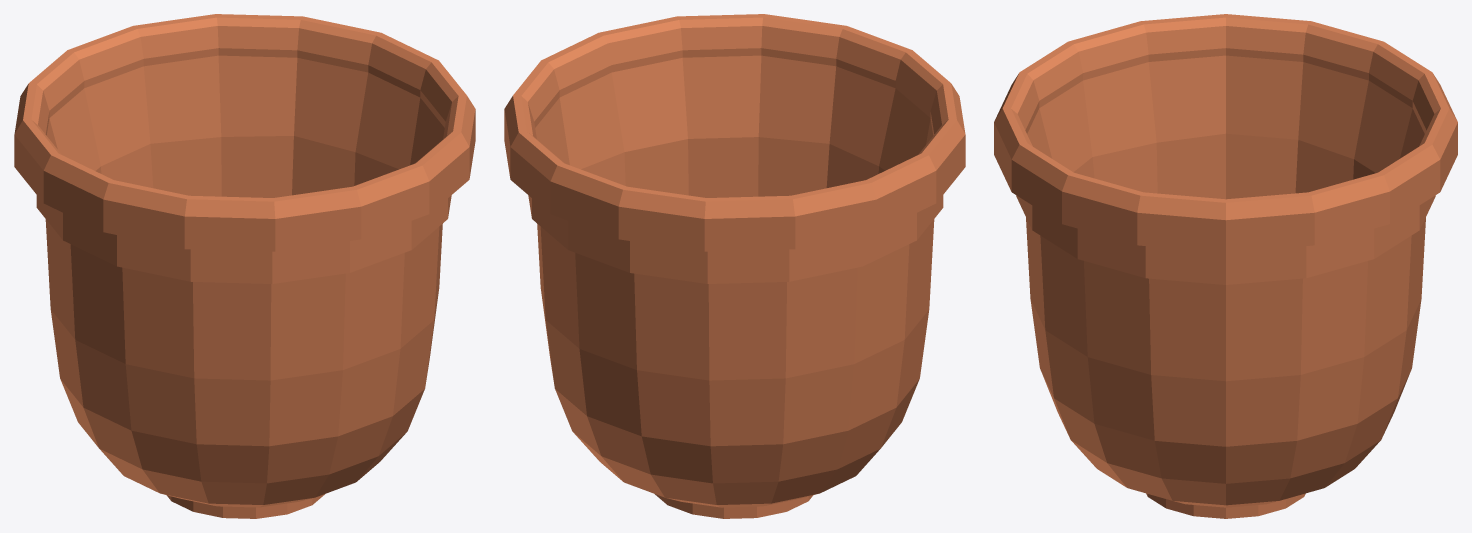
The model's file is pot_1_empty.fbx.
3 renders of one model, left to right at view 1: azimuth 30°, elevation 25°; view 2: azimuth 150°, elevation 25°; view 3: azimuth 270°, elevation 25°, orthographic.
Parts seen in each view (by area): view 1: pot_empty; view 2: pot_empty; view 3: pot_empty.
Part boxes in pixels (left/top/right/bottom): pot_empty: left=14, top=14, right=475, bottom=518; pot_empty: left=504, top=14, right=965, bottom=518; pot_empty: left=994, top=14, right=1457, bottom=518.
Bounding box in the file's own units: 547 × 488 × 547.
